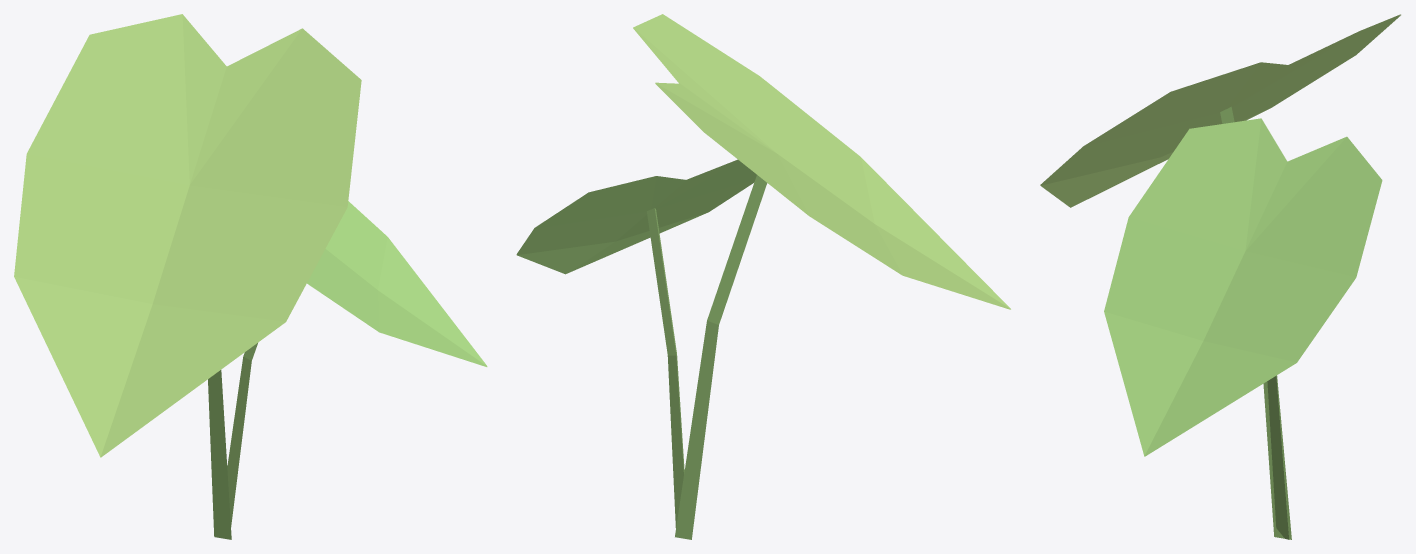
File: Plant_d_TwoS_04.fbx
3 views of the same model, side by side, from view 1: azimuth 30°, elevation 25°; view 2: azimuth 150°, elevation 25°; view 3: azimuth 270°, elevation 25° (orthographic). The views are drawn at different scales.
Visible parts, largest first — view 1: Plant_d_TwoS_04; view 2: Plant_d_TwoS_04; view 3: Plant_d_TwoS_04.
Part boxes in pixels (box(x1,y1,x2,y2)): Plant_d_TwoS_04: box(14, 14, 487, 539); Plant_d_TwoS_04: box(516, 14, 1010, 539); Plant_d_TwoS_04: box(1040, 14, 1400, 539).
Bounding box in the file's own units: 0.6038 × 0.6813 × 0.4409.
